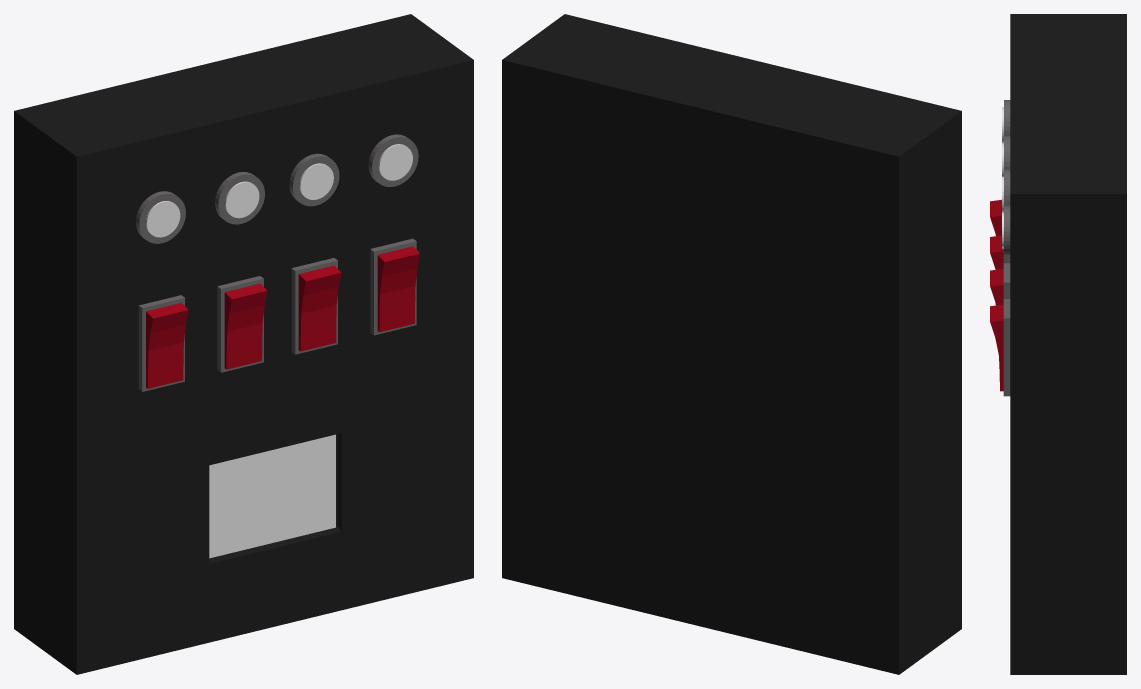
Rendered from caja_interruptores.fbx.
The picture shows the model from 3 angles, left to right: view 1: azimuth 30°, elevation 25°; view 2: azimuth 150°, elevation 25°; view 3: azimuth 270°, elevation 25°; orthographic projection. The views are drawn at different scales.
Visible parts, largest first — view 1: Base, panelcito, interruptor_3, interruptor_2, interruptor_4, interruptor_1, Luz_3, Luz_1, Luz_2, Luz_4; view 2: Base; view 3: Base, interruptor_4, interruptor_3, interruptor_2, interruptor_1.
Part boxes in pixels (left/top/right/bottom): Base: left=14, top=14, right=473, bottom=674; panelcito: left=209, top=434, right=335, bottom=558; interruptor_3: left=298, top=265, right=341, bottom=351; interruptor_2: left=224, top=283, right=267, bottom=369; interruptor_4: left=377, top=246, right=420, bottom=332; interruptor_1: left=146, top=303, right=188, bottom=388; Luz_3: left=299, top=163, right=333, bottom=199; Luz_1: left=146, top=201, right=180, bottom=237; Luz_2: left=225, top=181, right=259, bottom=218; Luz_4: left=378, top=144, right=412, bottom=180; Base: left=502, top=14, right=961, bottom=674; Base: left=1003, top=14, right=1126, bottom=674; interruptor_4: left=990, top=304, right=1003, bottom=391; interruptor_3: left=990, top=269, right=1003, bottom=305; interruptor_2: left=990, top=235, right=1003, bottom=269; interruptor_1: left=990, top=199, right=1001, bottom=236.
Size of the model in its own units: 325 by 406 by 104.
